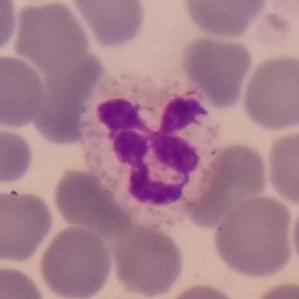Neutrophil: (76, 66, 225, 227)
RBC: (181, 140, 271, 228), (210, 192, 297, 280), (28, 48, 104, 143), (108, 222, 188, 298), (178, 31, 255, 109), (36, 223, 115, 299), (10, 0, 92, 70), (50, 166, 126, 234), (239, 52, 299, 133), (0, 186, 56, 264), (68, 0, 149, 50), (0, 52, 47, 130), (180, 0, 270, 40), (263, 128, 299, 207), (0, 122, 36, 188), (0, 262, 47, 299), (160, 281, 244, 299), (0, 0, 19, 57), (246, 279, 298, 299), (288, 194, 299, 274)
